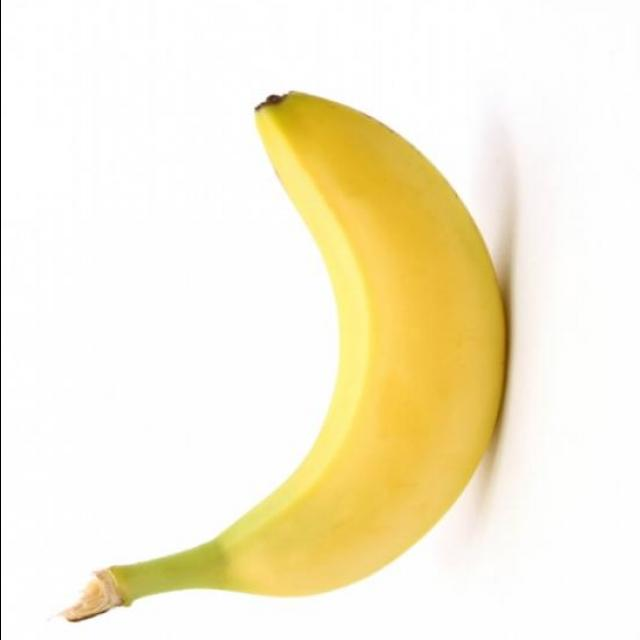banana: (210, 90, 554, 608)
